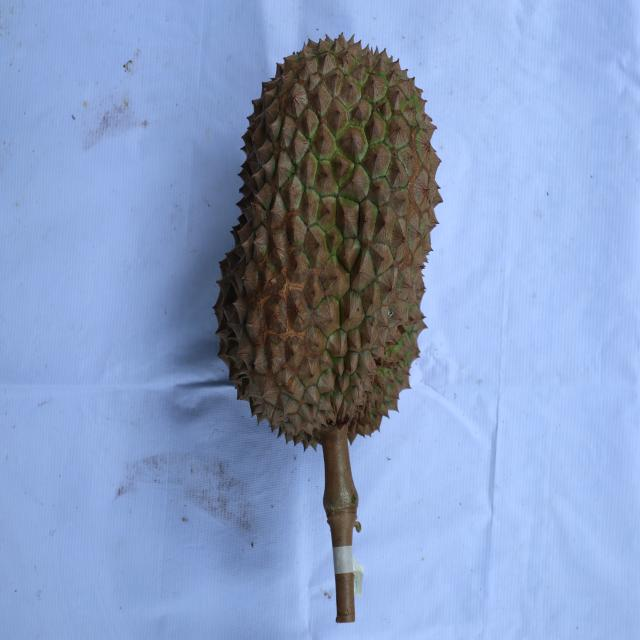mature: (208, 30, 447, 455)
